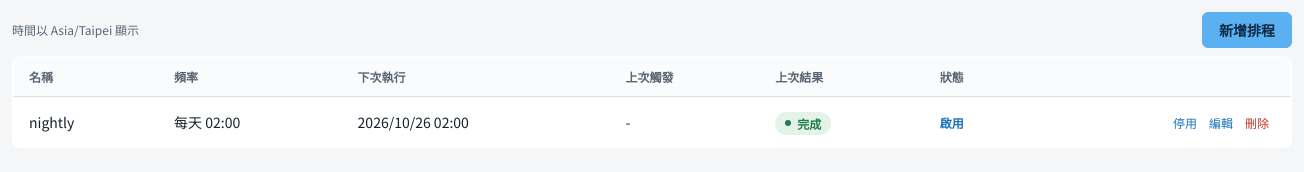
Scenario: ScheduleList › deletes after confirmation
Click the button with test id "btn-delete-schedule": click(1257, 122) [1239,112,1275,133]
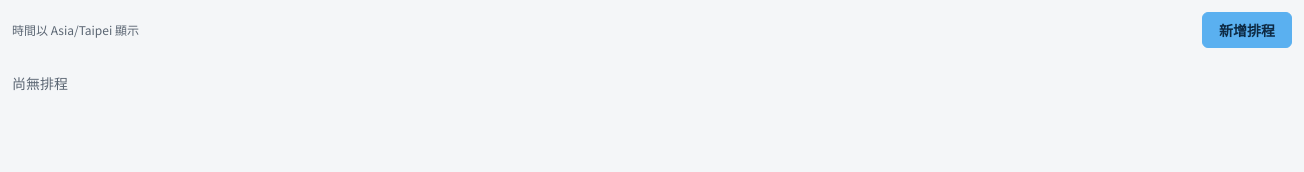
Now the text "尚無排程" is shown, box [12,73,68,93]
